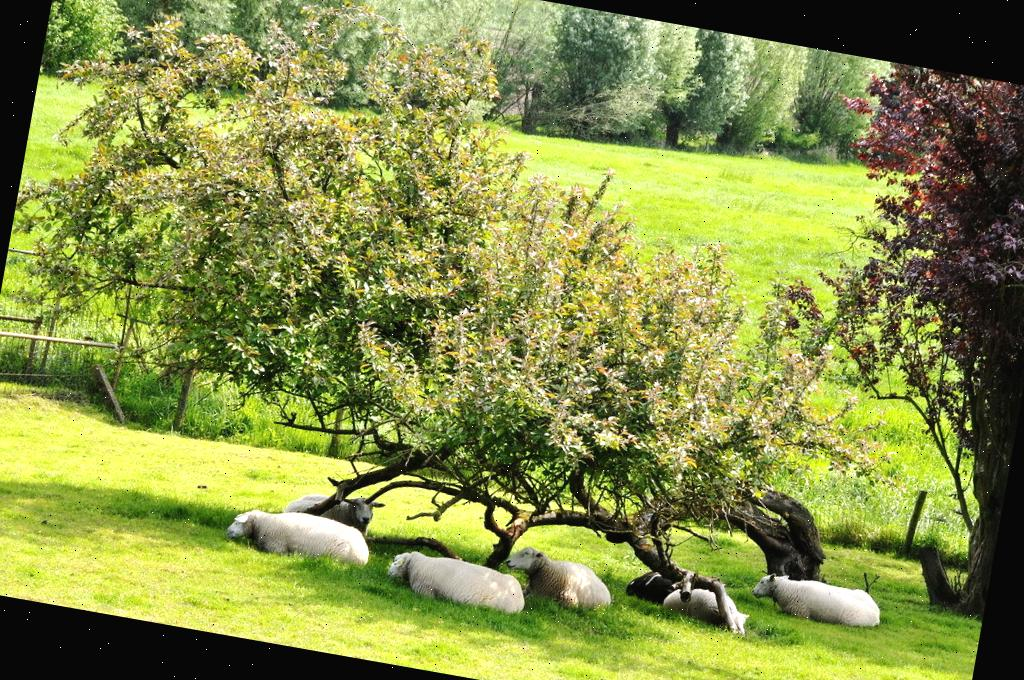Sheep: (383, 547, 530, 619), (226, 503, 374, 572), (747, 568, 894, 636), (496, 541, 623, 613), (626, 560, 734, 618), (660, 580, 764, 638), (286, 484, 387, 530)
